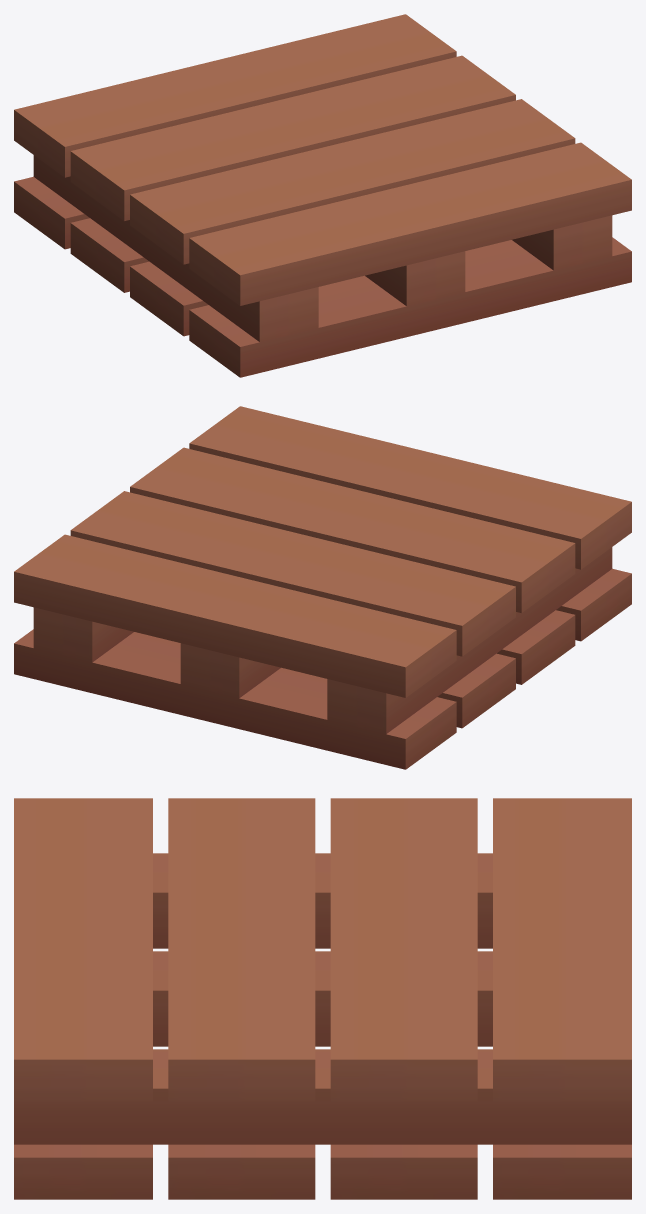
File: Pallet_Small.glb
The picture shows the model from 3 angles, top to bottom: view 1: azimuth 30°, elevation 25°; view 2: azimuth 150°, elevation 25°; view 3: azimuth 270°, elevation 25°; orthographic projection. The views are drawn at different scales.
Visible parts, largest first — view 1: Pallet_Small; view 2: Pallet_Small; view 3: Pallet_Small.
Part boxes in pixels (box(x1,y1,x2,y2)): Pallet_Small: box(14, 14, 631, 377); Pallet_Small: box(14, 406, 631, 769); Pallet_Small: box(14, 798, 631, 1199).
Bounding box in the file's own units: 2 × 0.5001 × 2.
Materials: 1 (1 with a texture image).
